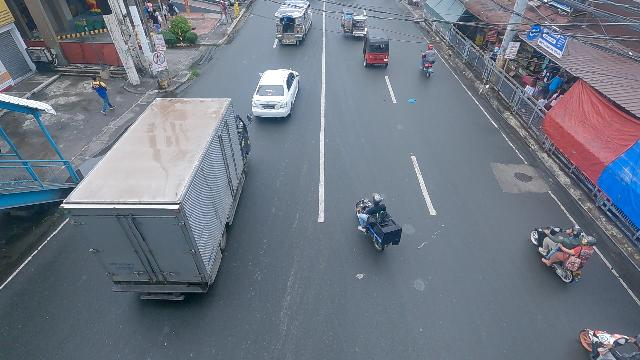car: (250, 68, 300, 119)
jeepney: (273, 0, 312, 46)
motorcycle: (529, 225, 581, 284), (353, 194, 403, 254), (420, 45, 437, 79)
truck: (60, 96, 252, 298)
